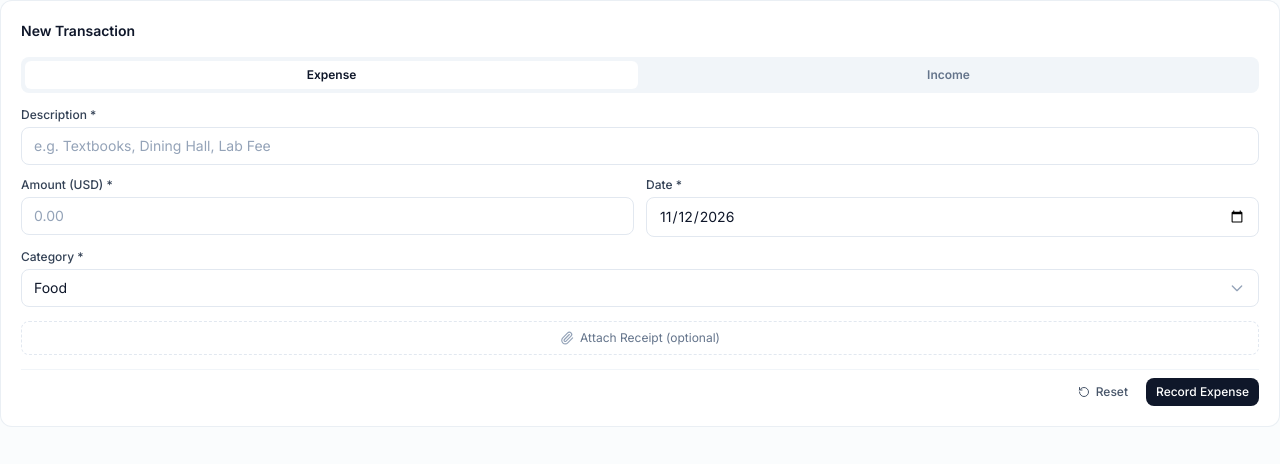
Scenario: TransactionForm Component › displays validation error for negative amount
The image size is (1280, 464).
In the field labelled "Description *": x=640, y=146 21,127 -> 1259,165, type "Math Books"
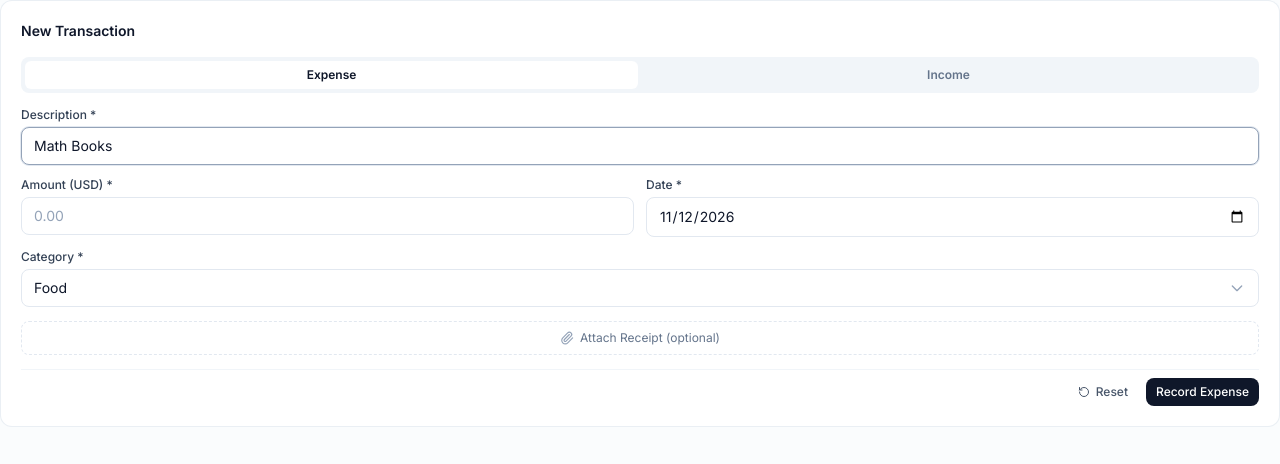
In the number field labelled "Amount (USD) *": x=328, y=216 21,197 -> 634,235, type "-20"
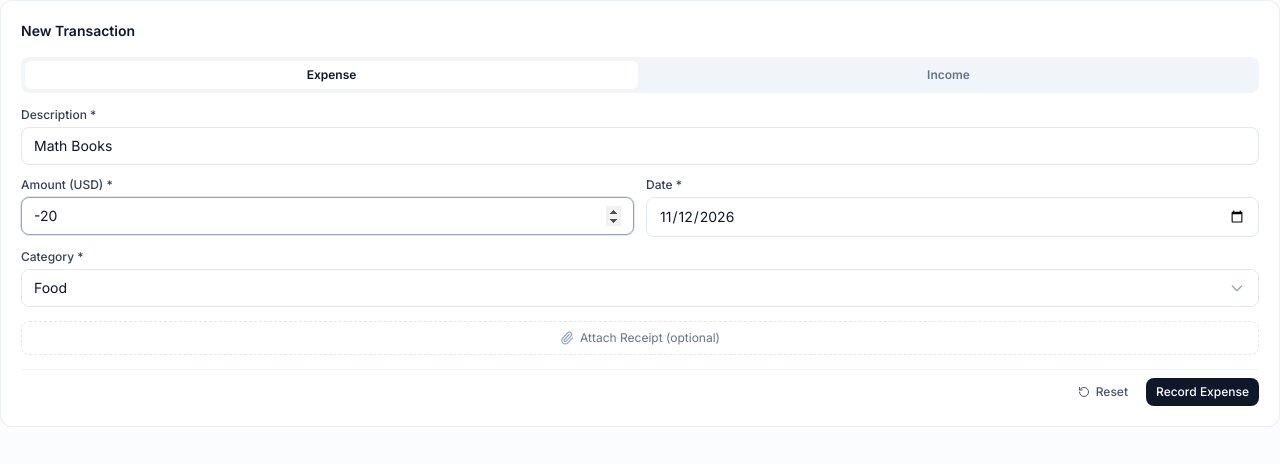
Click the button "Record Expense": x=1202, y=392 1146,378 -> 1259,406
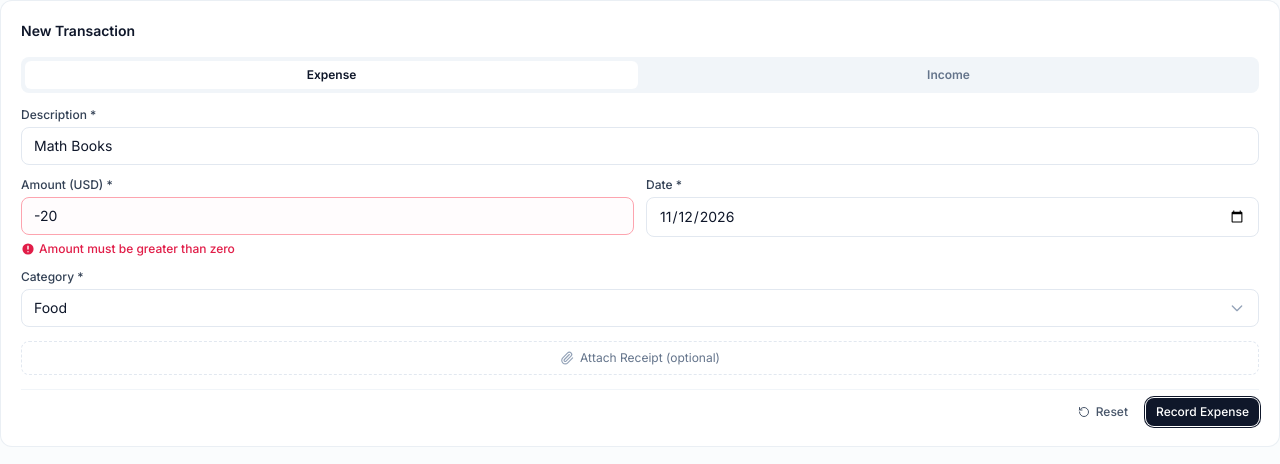
Now the text "Amount must be greater than zero" is shown, box 21,241 -> 235,256
